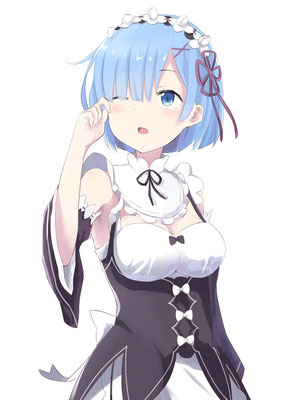rem: (40, 10, 235, 399)
